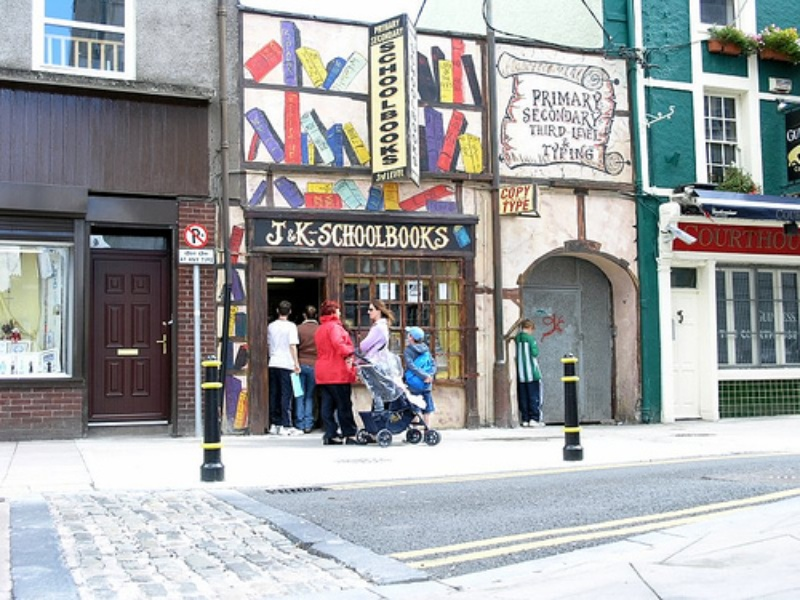person: (313, 300, 358, 445), (267, 300, 305, 436), (403, 326, 438, 432), (516, 319, 546, 427), (297, 305, 318, 432), (359, 300, 395, 353)
